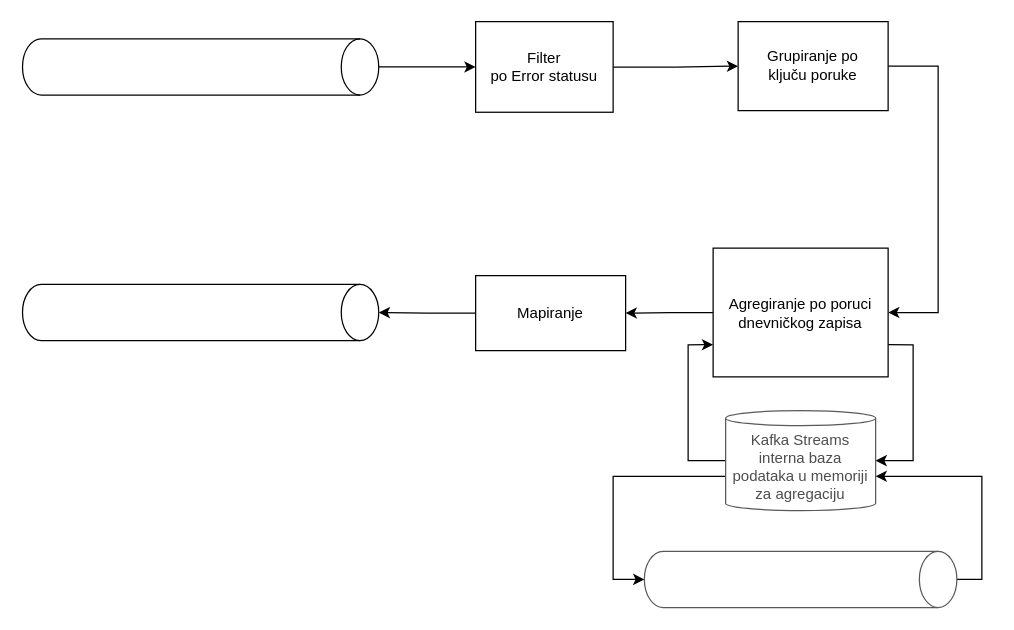
Image size: 1014x630. Some labels were removed from this diagram. Each missing label, with the box of its shape:
aggregated-errors tema: (21, 283, 379, 341)
Interna Kafka tema za agregaciju: (643, 550, 957, 608)
logs-* tema: (21, 38, 379, 95)
